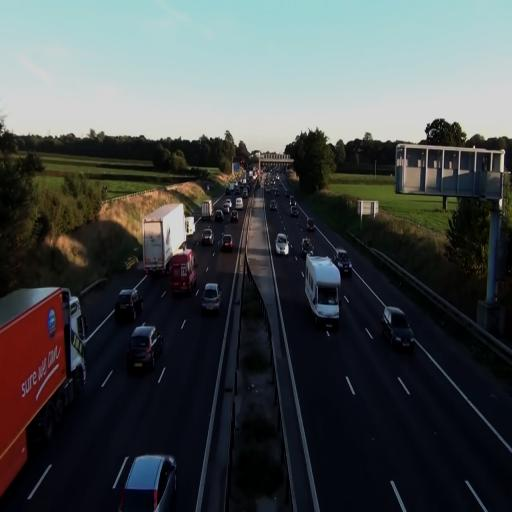vehicle: (0, 285, 87, 499), (0, 288, 87, 499), (116, 454, 178, 511), (118, 455, 177, 511), (142, 203, 187, 273), (142, 204, 186, 274), (303, 253, 341, 332), (304, 253, 340, 333), (305, 256, 341, 329), (126, 324, 164, 371), (127, 325, 163, 371), (381, 306, 415, 352), (382, 307, 415, 351), (169, 250, 197, 298), (171, 249, 197, 295), (114, 289, 144, 321), (115, 288, 143, 322), (200, 282, 222, 315), (202, 284, 221, 314), (333, 249, 352, 276), (335, 249, 352, 277), (275, 231, 290, 255), (200, 225, 214, 246), (338, 258, 352, 278), (276, 234, 289, 255), (220, 235, 234, 253), (202, 200, 213, 221), (221, 234, 233, 252), (302, 239, 313, 258), (202, 229, 214, 245), (186, 217, 195, 236), (230, 210, 238, 222), (307, 218, 314, 231), (290, 206, 298, 217), (215, 210, 223, 221), (223, 203, 230, 214), (236, 198, 243, 209), (270, 200, 277, 210), (225, 199, 232, 209), (242, 188, 248, 198), (230, 183, 235, 193), (290, 196, 295, 206), (265, 185, 270, 192), (249, 170, 253, 178), (225, 188, 230, 194), (236, 187, 240, 194), (286, 190, 290, 197), (242, 178, 246, 185), (275, 189, 279, 196), (279, 182, 283, 187)
